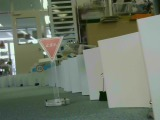stop: (35, 36, 66, 62)
